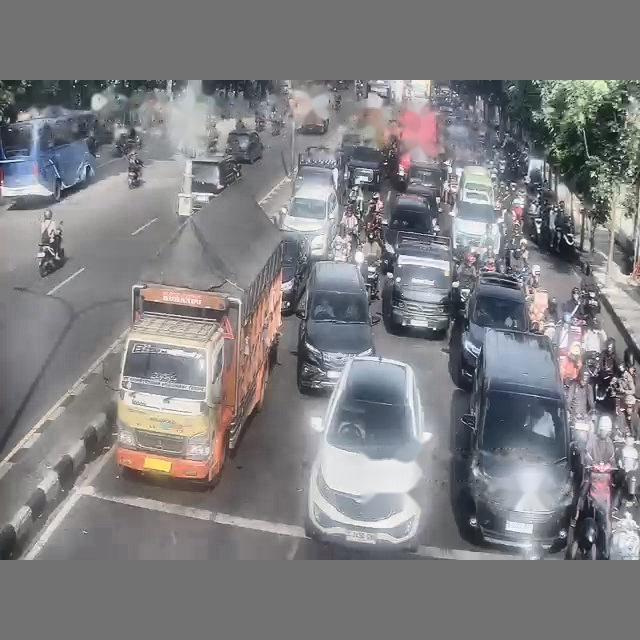Bis: (0, 109, 97, 201)
Mobil: (460, 329, 577, 549), (305, 357, 431, 551), (296, 261, 379, 392), (454, 273, 529, 389), (382, 232, 452, 336), (279, 184, 339, 259), (382, 193, 437, 267), (185, 154, 240, 213), (450, 200, 501, 253), (281, 232, 309, 312), (293, 147, 340, 192), (226, 130, 263, 163)
Motor: (567, 463, 615, 559), (36, 221, 63, 277), (128, 165, 140, 188)
Truk: (116, 190, 282, 485)
